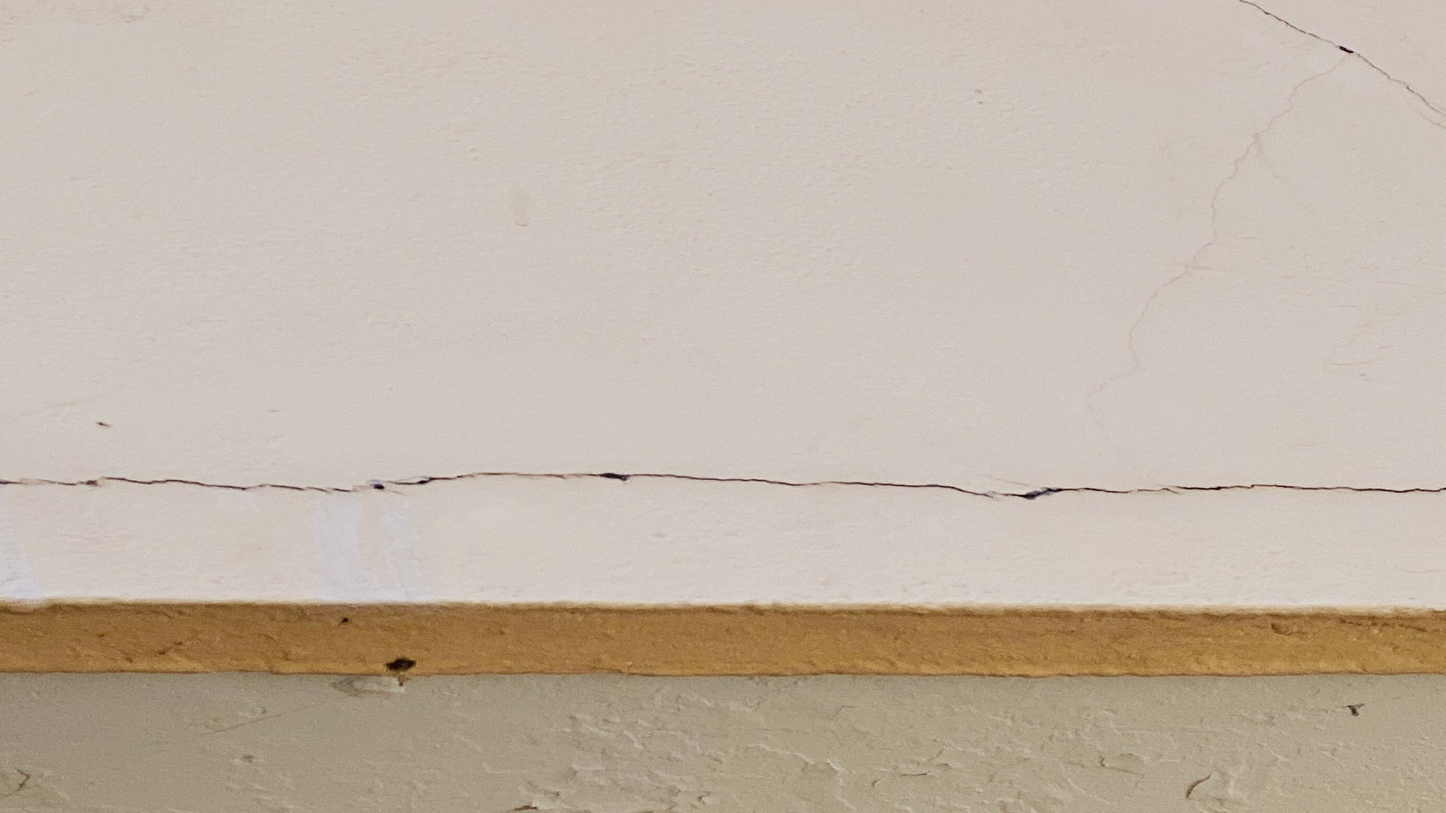crack: (0, 471, 1181, 499), (1240, 0, 1444, 115), (1177, 483, 1445, 493)
